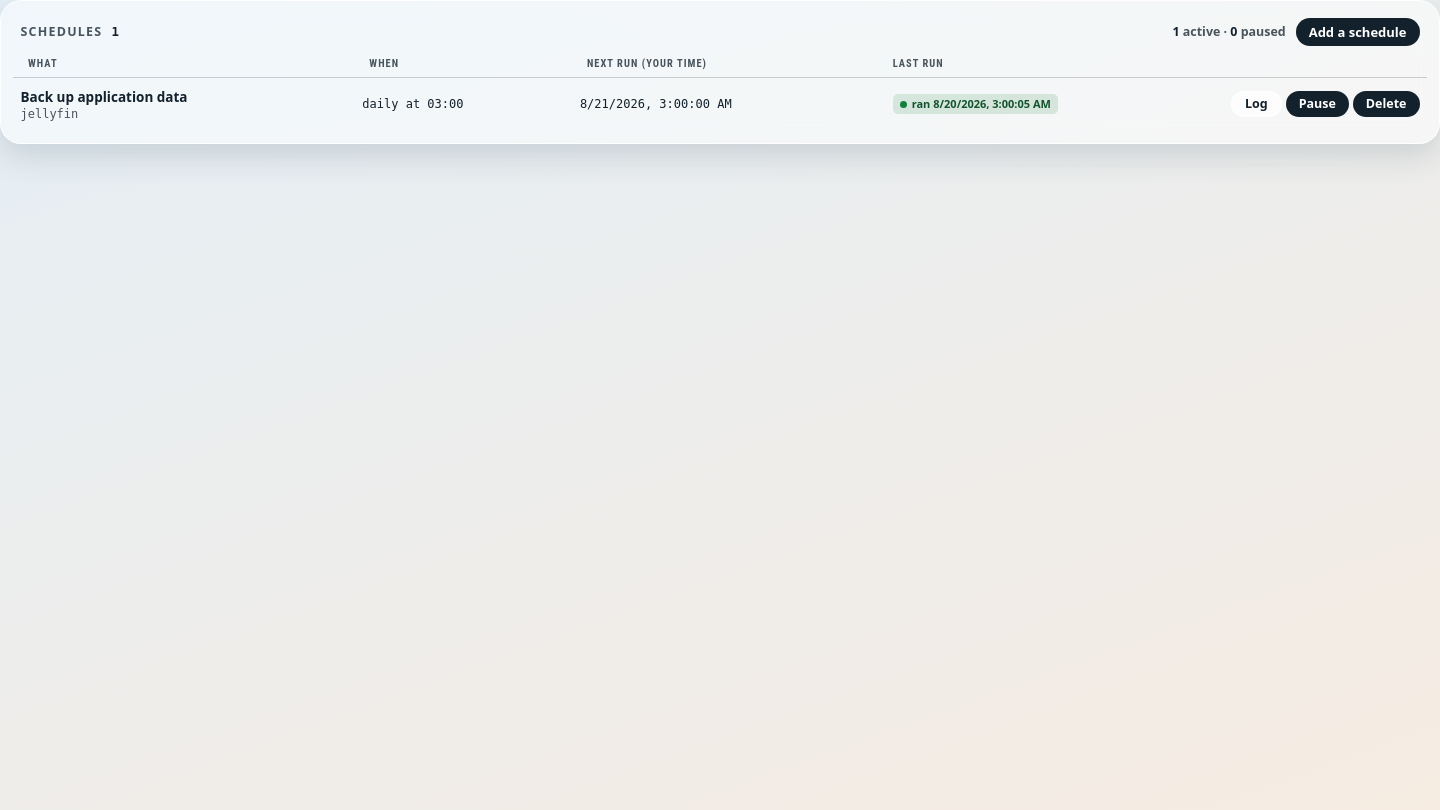
Schedules panel › asks before deleting a schedule, says what stops, and deletes only on the dialog's Delete (M49)
The image size is (1440, 810).
Click the button with aria-label "Delete the schedule: Back up application data".
click(1386, 104)  # box [1353,91,1420,117]
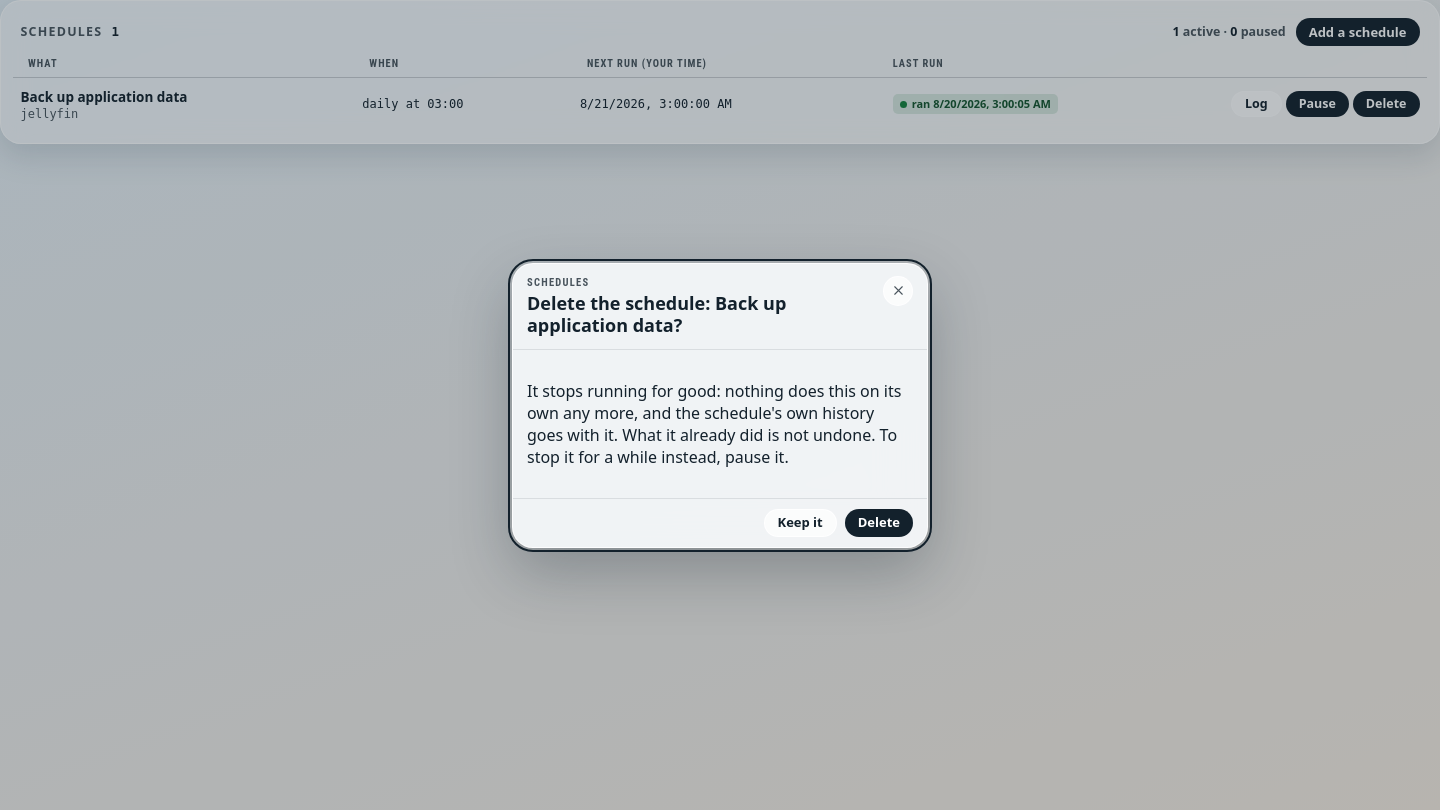
Now the dialog "Delete the schedule: Back up application data?" shows "To stop it for a while instead, pause it.", box [527,380,901,468]
Click the button "Keep it".
click(800, 522)  # box [764,508,837,536]
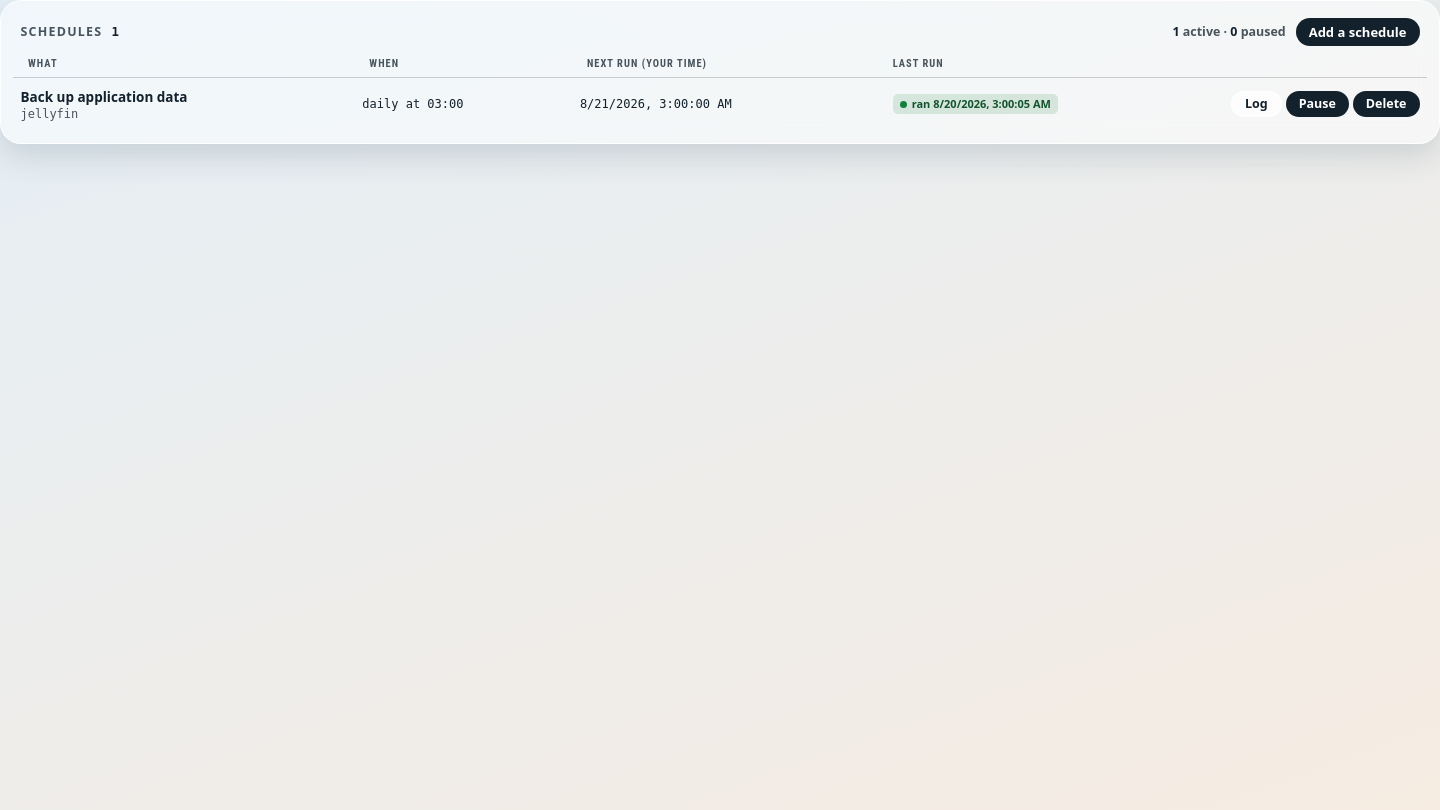
Now the dialog is gone
Click the button with aria-label "Delete the schedule: Back up application data".
click(1386, 104)  # box [1353,91,1420,117]
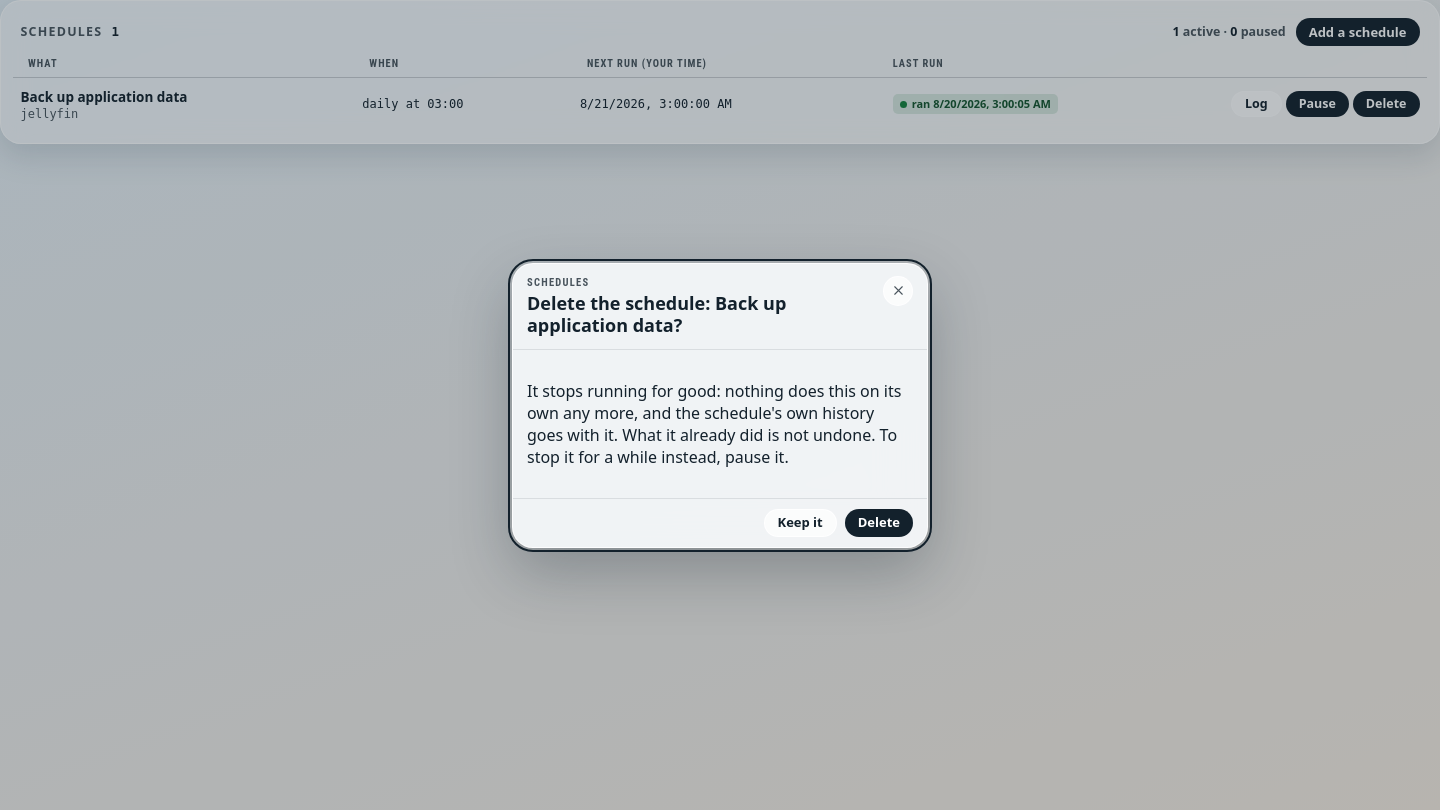
Click the button "Delete".
click(879, 522)  # box [845,508,913,536]
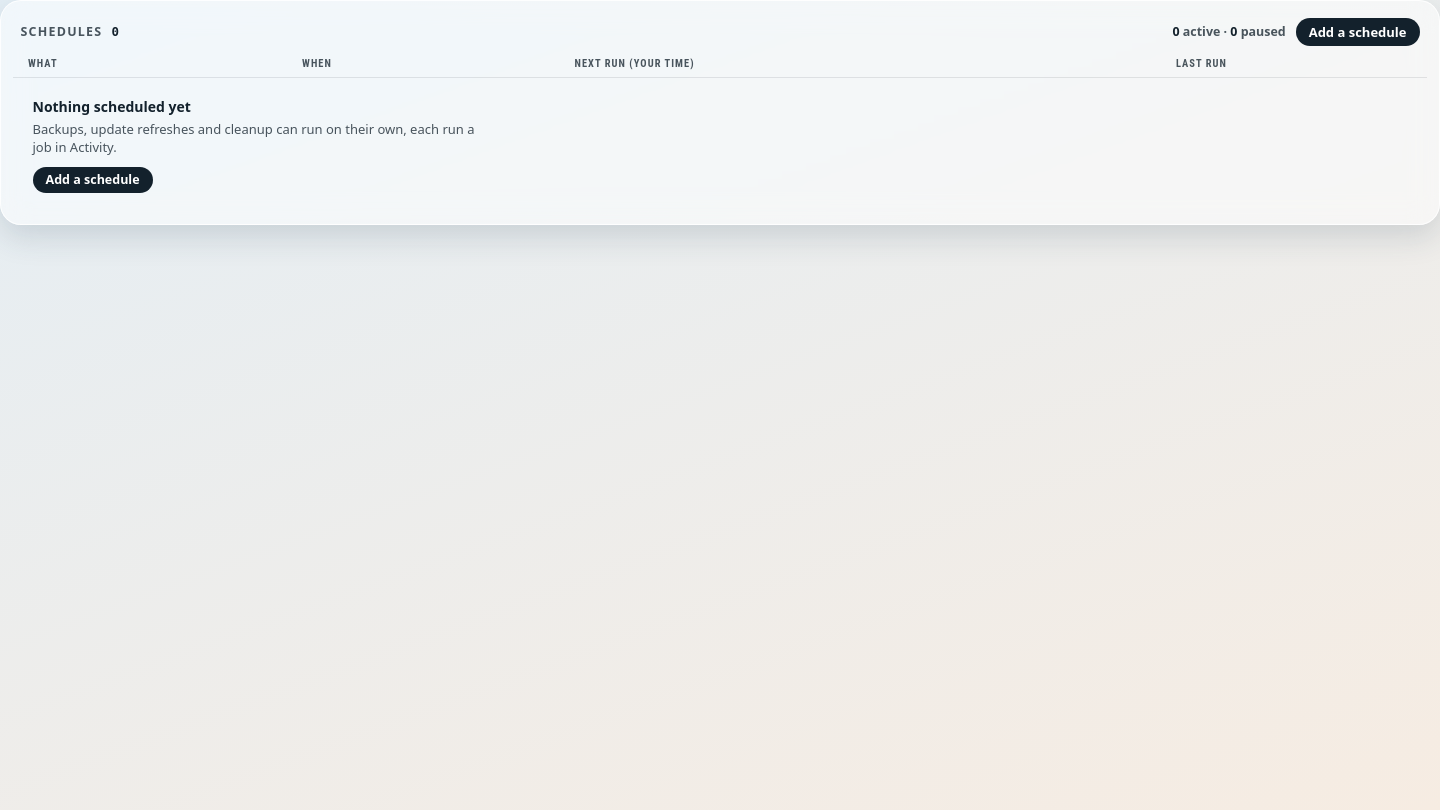
Now the dialog is gone
